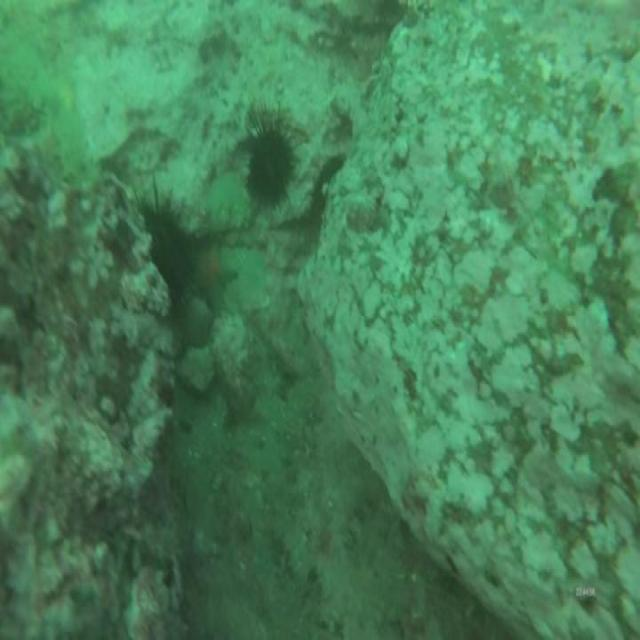echinus: (130, 182, 190, 308), (239, 109, 302, 229)
starfish: (186, 226, 236, 327)
